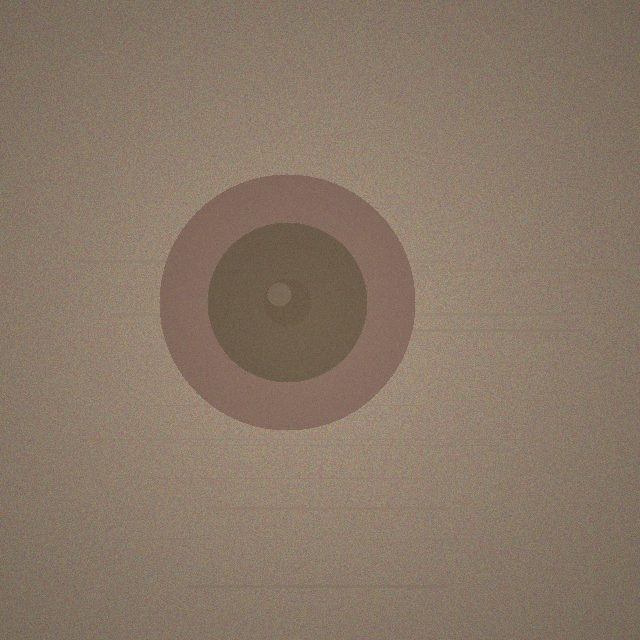good: (159, 174, 415, 430)
